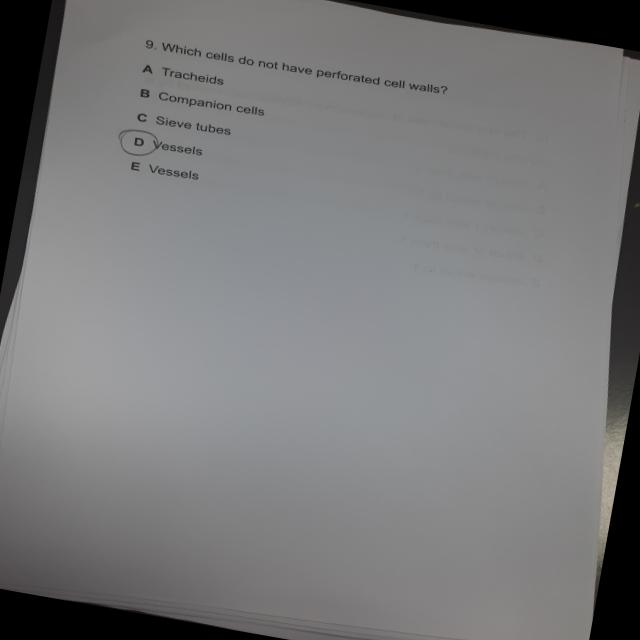D: (113, 126, 166, 164)
